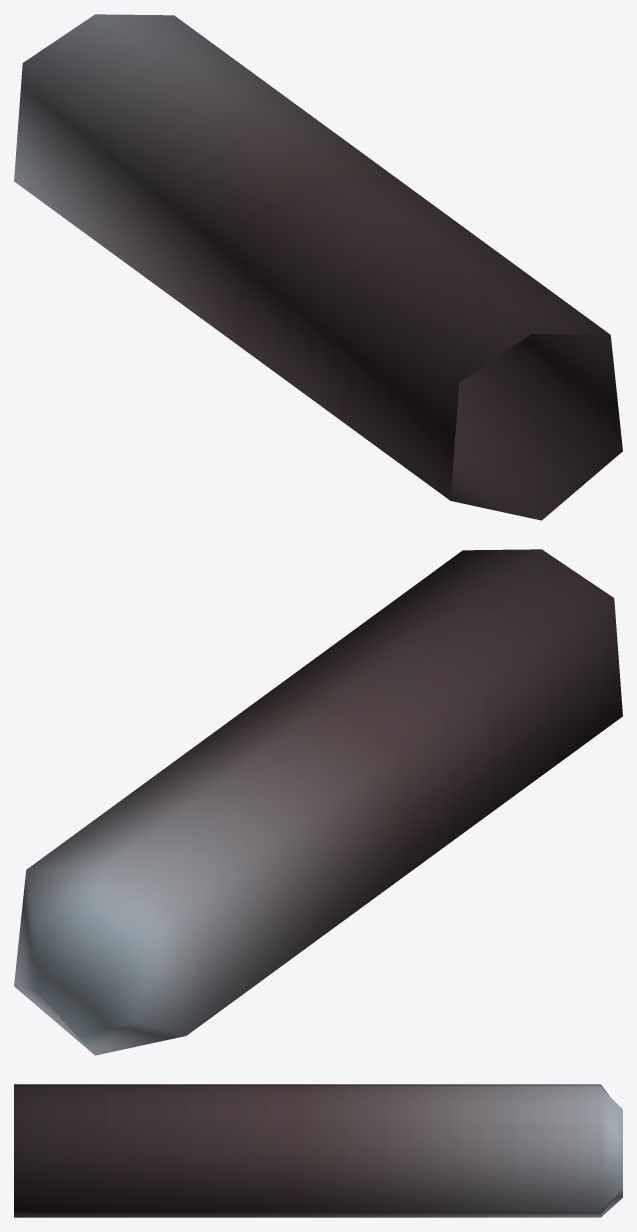
File: Fence 01 Pole.FBX
3 renders of one model, top to bottom at view 1: azimuth 30°, elevation 25°; view 2: azimuth 150°, elevation 25°; view 3: azimuth 270°, elevation 25°, orthographic. The views are drawn at different scales.
Parts seen in each view (by area): view 1: Fence 01 Pole; view 2: Fence 01 Pole; view 3: Fence 01 Pole.
Boxes of the visible parts, x1=… form: Fence 01 Pole: x1=14, y1=14, x2=622, y2=520; Fence 01 Pole: x1=14, y1=549, x2=622, y2=1055; Fence 01 Pole: x1=14, y1=1084, x2=622, y2=1217.
Size of the model in its own units: 24.28 by 25.45 by 110.
Materials: 1 (1 with a texture image).
